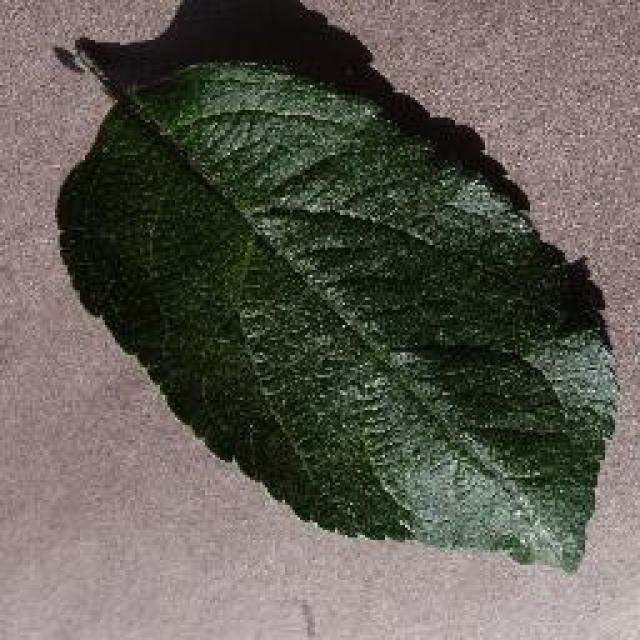apple scab disease: (52, 0, 622, 572)
